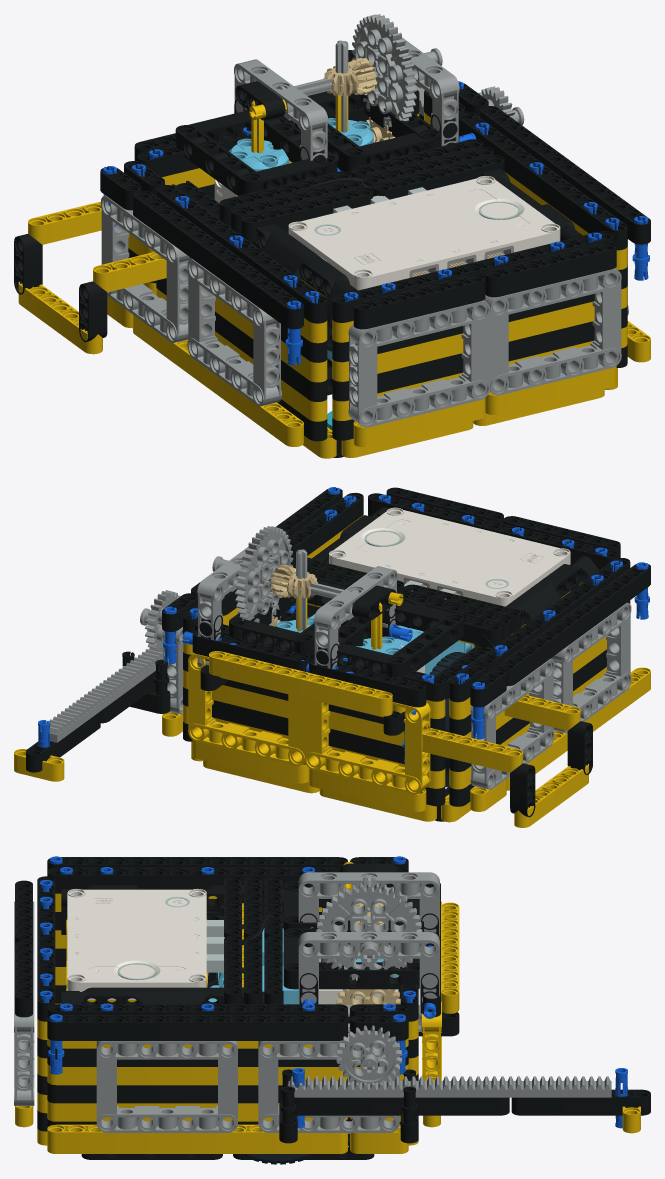
The model's file is connectech-concept.glb.
The picture shows the model from 3 angles, top to bottom: view 1: azimuth 30°, elevation 25°; view 2: azimuth 150°, elevation 25°; view 3: azimuth 270°, elevation 25°; orthographic projection. The views are drawn at different scales.
Visible parts, largest first — view 1: 10_Attachment, 07_Motor_core, 06_SPIKE_hub, 02_Left_chassis, 05_Rear_frame, 03_Right_chassis, 01_Chassis, 04_Front_frame; view 2: 10_Attachment, 07_Motor_core, 06_SPIKE_hub, 02_Left_chassis, 04_Front_frame, 11_Rack_arm, 03_Right_chassis, 05_Rear_frame, 01_Chassis, 08_Left_drive; view 3: 10_Attachment, 03_Right_chassis, 06_SPIKE_hub, 07_Motor_core, 11_Rack_arm, 02_Left_chassis, 05_Rear_frame, 01_Chassis, 04_Front_frame, 09_Right_drive.
Boxes of the visible parts, left/top/right/bottom form: 10_Attachment: left=14, top=14, right=650, bottom=447; 07_Motor_core: left=175, top=91, right=504, bottom=366; 06_SPIKE_hub: left=288, top=176, right=560, bottom=297; 02_Left_chassis: left=124, top=161, right=357, bottom=441; 05_Rear_frame: left=332, top=231, right=614, bottom=440; 03_Right_chassis: left=424, top=90, right=627, bottom=367; 01_Chassis: left=303, top=364, right=617, bottom=458; 04_Front_frame: left=137, top=90, right=419, bottom=199; 10_Attachment: left=121, top=487, right=650, bottom=827; 07_Motor_core: left=229, top=556, right=520, bottom=678; 06_SPIKE_hub: left=329, top=507, right=570, bottom=647; 02_Left_chassis: left=449, top=556, right=630, bottom=806; 04_Front_frame: left=194, top=621, right=445, bottom=806; 11_Rack_arm: left=14, top=647, right=163, bottom=781; 03_Right_chassis: left=183, top=492, right=388, bottom=741; 05_Rear_frame: left=368, top=493, right=618, bottom=590; 01_Chassis: left=191, top=741, right=470, bottom=822; 08_Left_drive: left=429, top=652, right=465, bottom=787; 10_Attachment: left=14, top=856, right=459, bottom=1150; 03_Right_chassis: left=47, top=987, right=408, bottom=1127; 06_SPIKE_hub: left=66, top=888, right=207, bottom=1002; 07_Motor_core: left=206, top=876, right=424, bottom=1004; 11_Rack_arm: left=288, top=1068, right=650, bottom=1133; 02_Left_chassis: left=47, top=867, right=408, bottom=1003; 05_Rear_frame: left=37, top=876, right=55, bottom=1131; 01_Chassis: left=37, top=1003, right=418, bottom=1159; 04_Front_frame: left=400, top=984, right=418, bottom=1080; 09_Right_drive: left=240, top=1076, right=348, bottom=1164.
Bounding box in the file's own units: 504 × 288 × 631.
